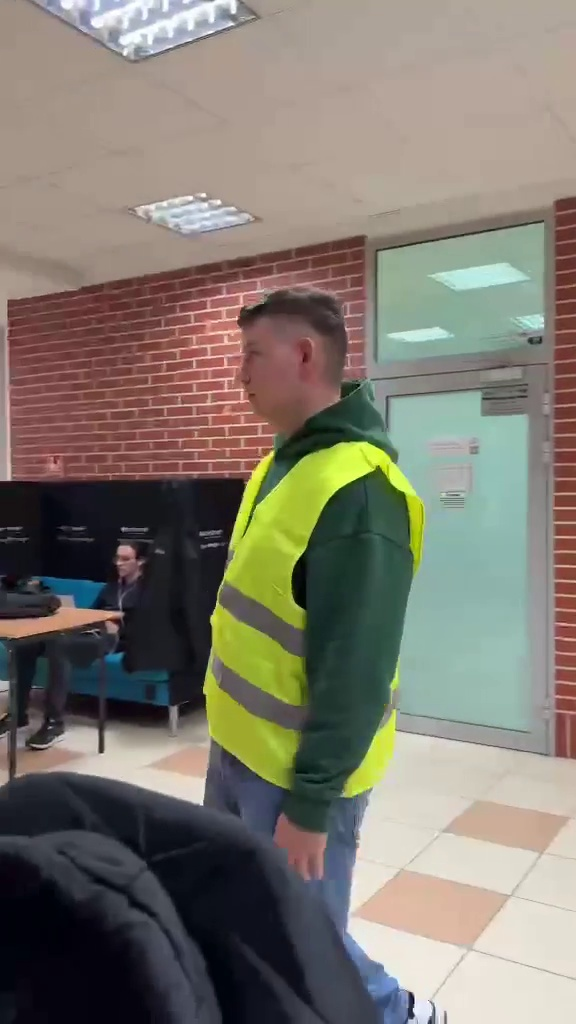no vest: (10, 532, 151, 746)
vest: (198, 285, 428, 1024)
